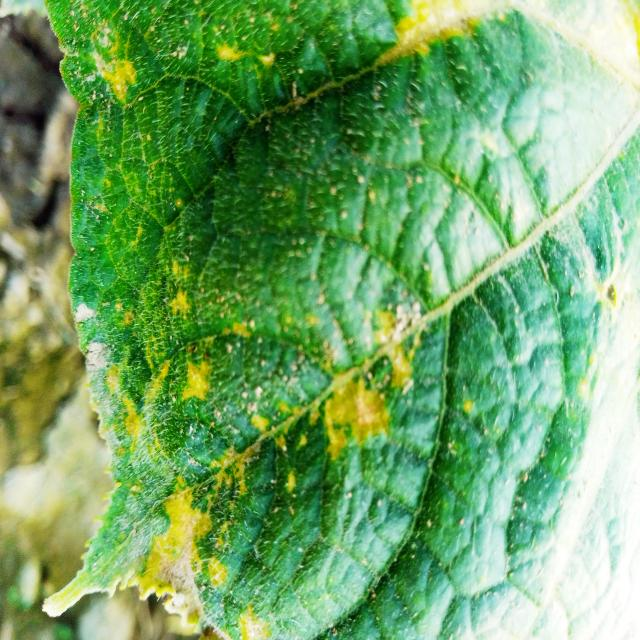Downy-Mildew: (45, 0, 640, 640)
